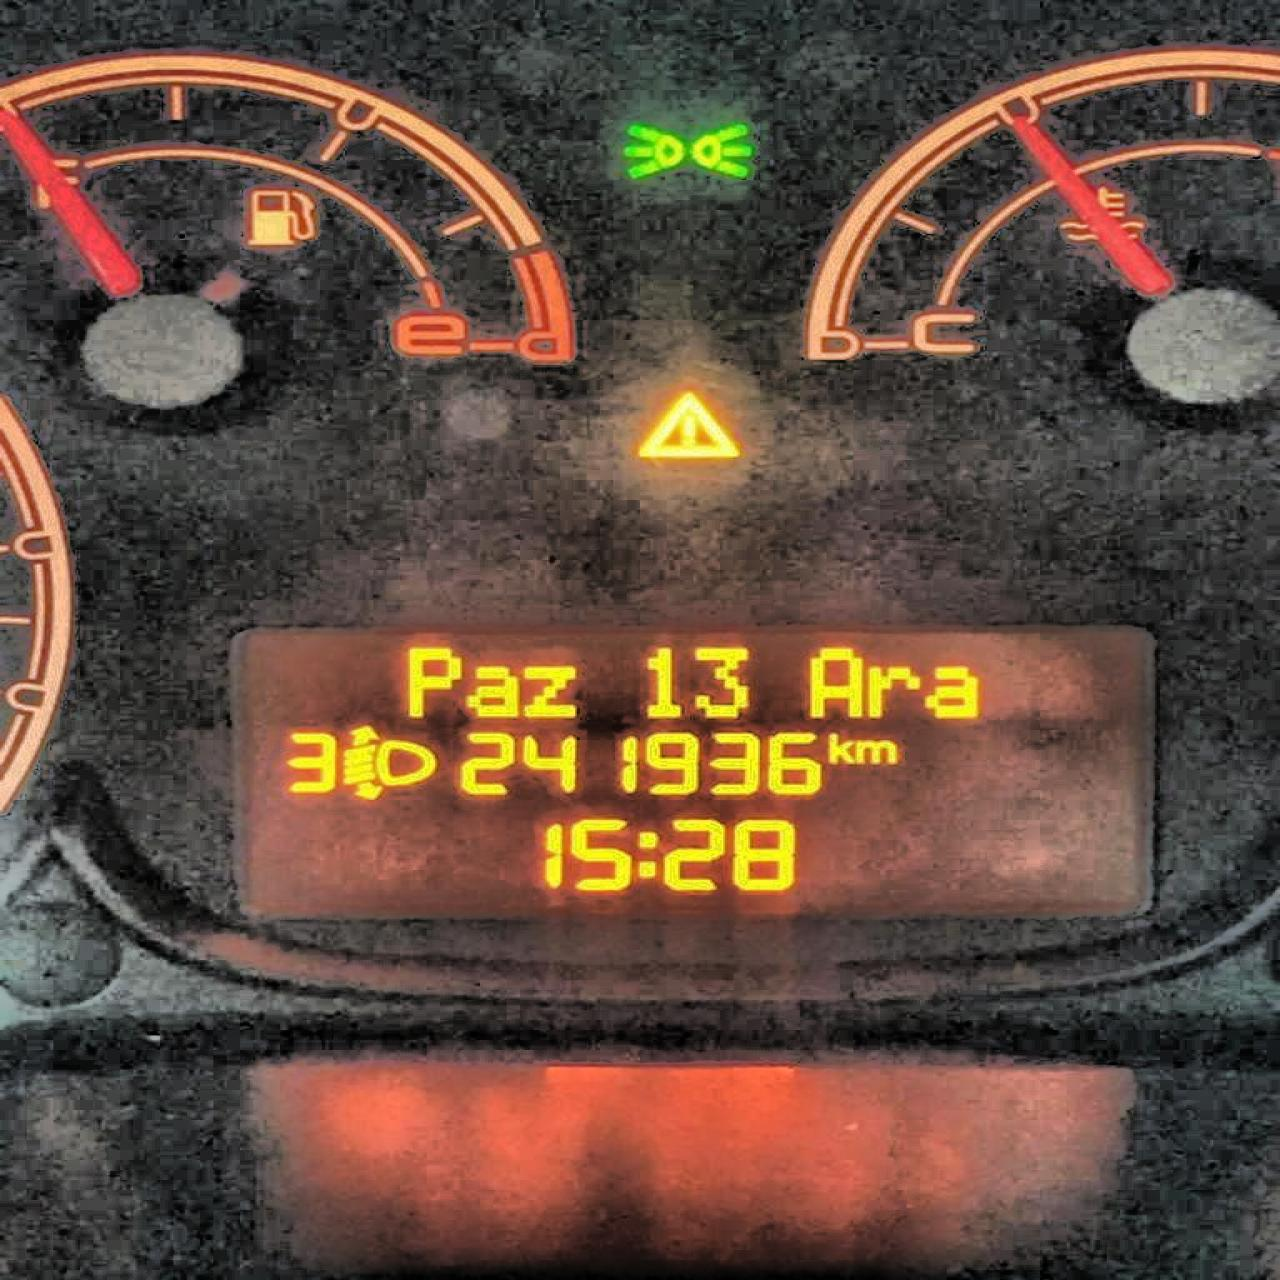1: (639, 638, 682, 720), (530, 812, 570, 901), (618, 729, 640, 799)
2: (666, 810, 727, 898), (454, 728, 513, 798)
3: (690, 641, 750, 719), (281, 728, 336, 803), (708, 728, 758, 803)
4: (522, 728, 580, 798)
5: (568, 813, 629, 898)
6: (762, 722, 818, 802)
8: (731, 817, 803, 897)
9: (645, 728, 696, 797)
X: (403, 639, 463, 721), (805, 644, 865, 720), (522, 655, 580, 720), (927, 659, 983, 720), (468, 661, 515, 726), (865, 662, 915, 719), (636, 823, 659, 885), (853, 737, 897, 764), (825, 729, 853, 763)
odometer: (236, 615, 1152, 919)
